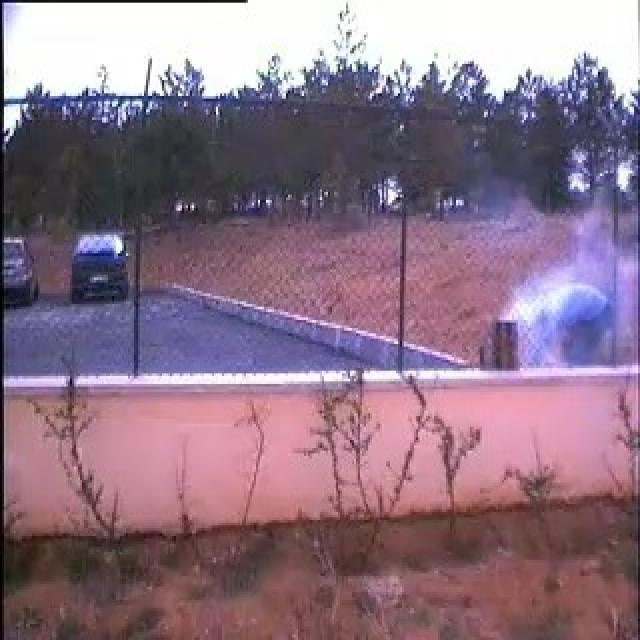Smoke: (512, 219, 608, 368)
